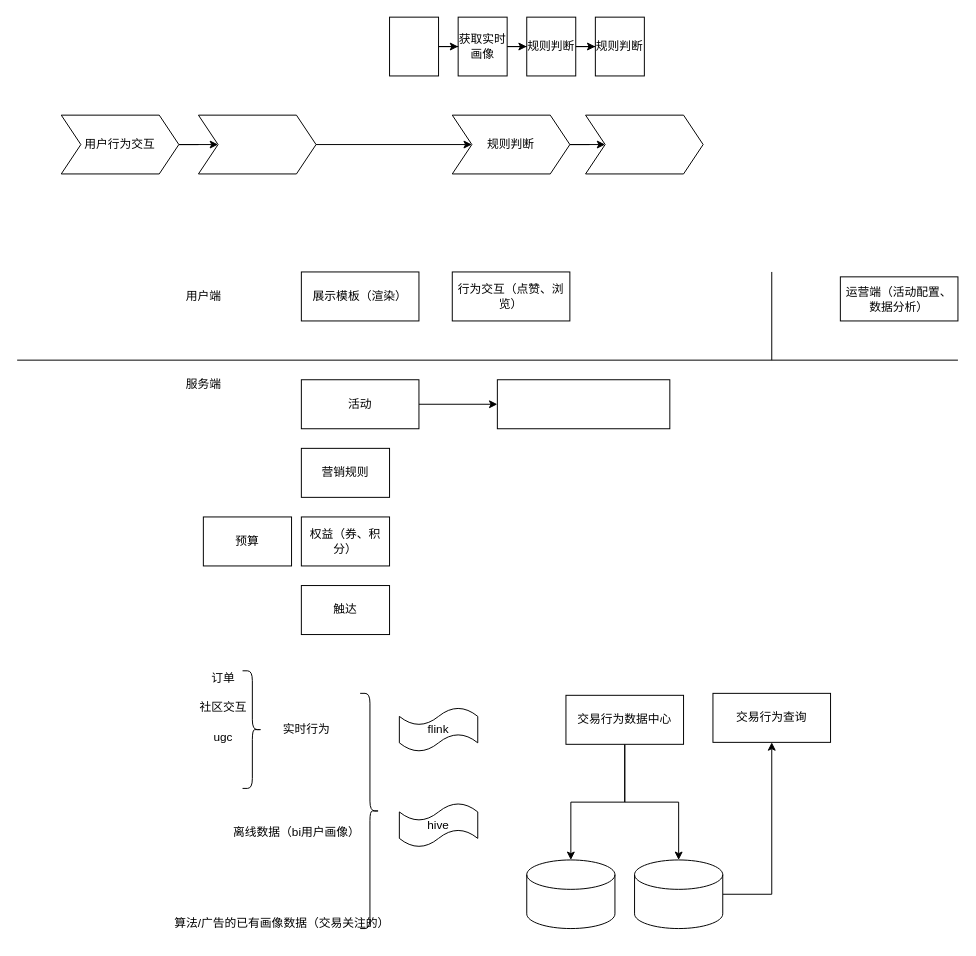
The diagram is 976 pixels wide and 956 high, and some of its shapes have lost their labels. The shapes that lost their labels are listed below. From the top down, each one's centre as x and y in pixels, then its label:
At point 414,46: "需要哪些数据".
At point 256,144: "请求过滤".
At point 644,144: "触发发放群益".
At point 583,404: "投放计划 （时间，人群）".
At point 570,894: "行为数据规则配置".
At point 678,894: "redkv".
